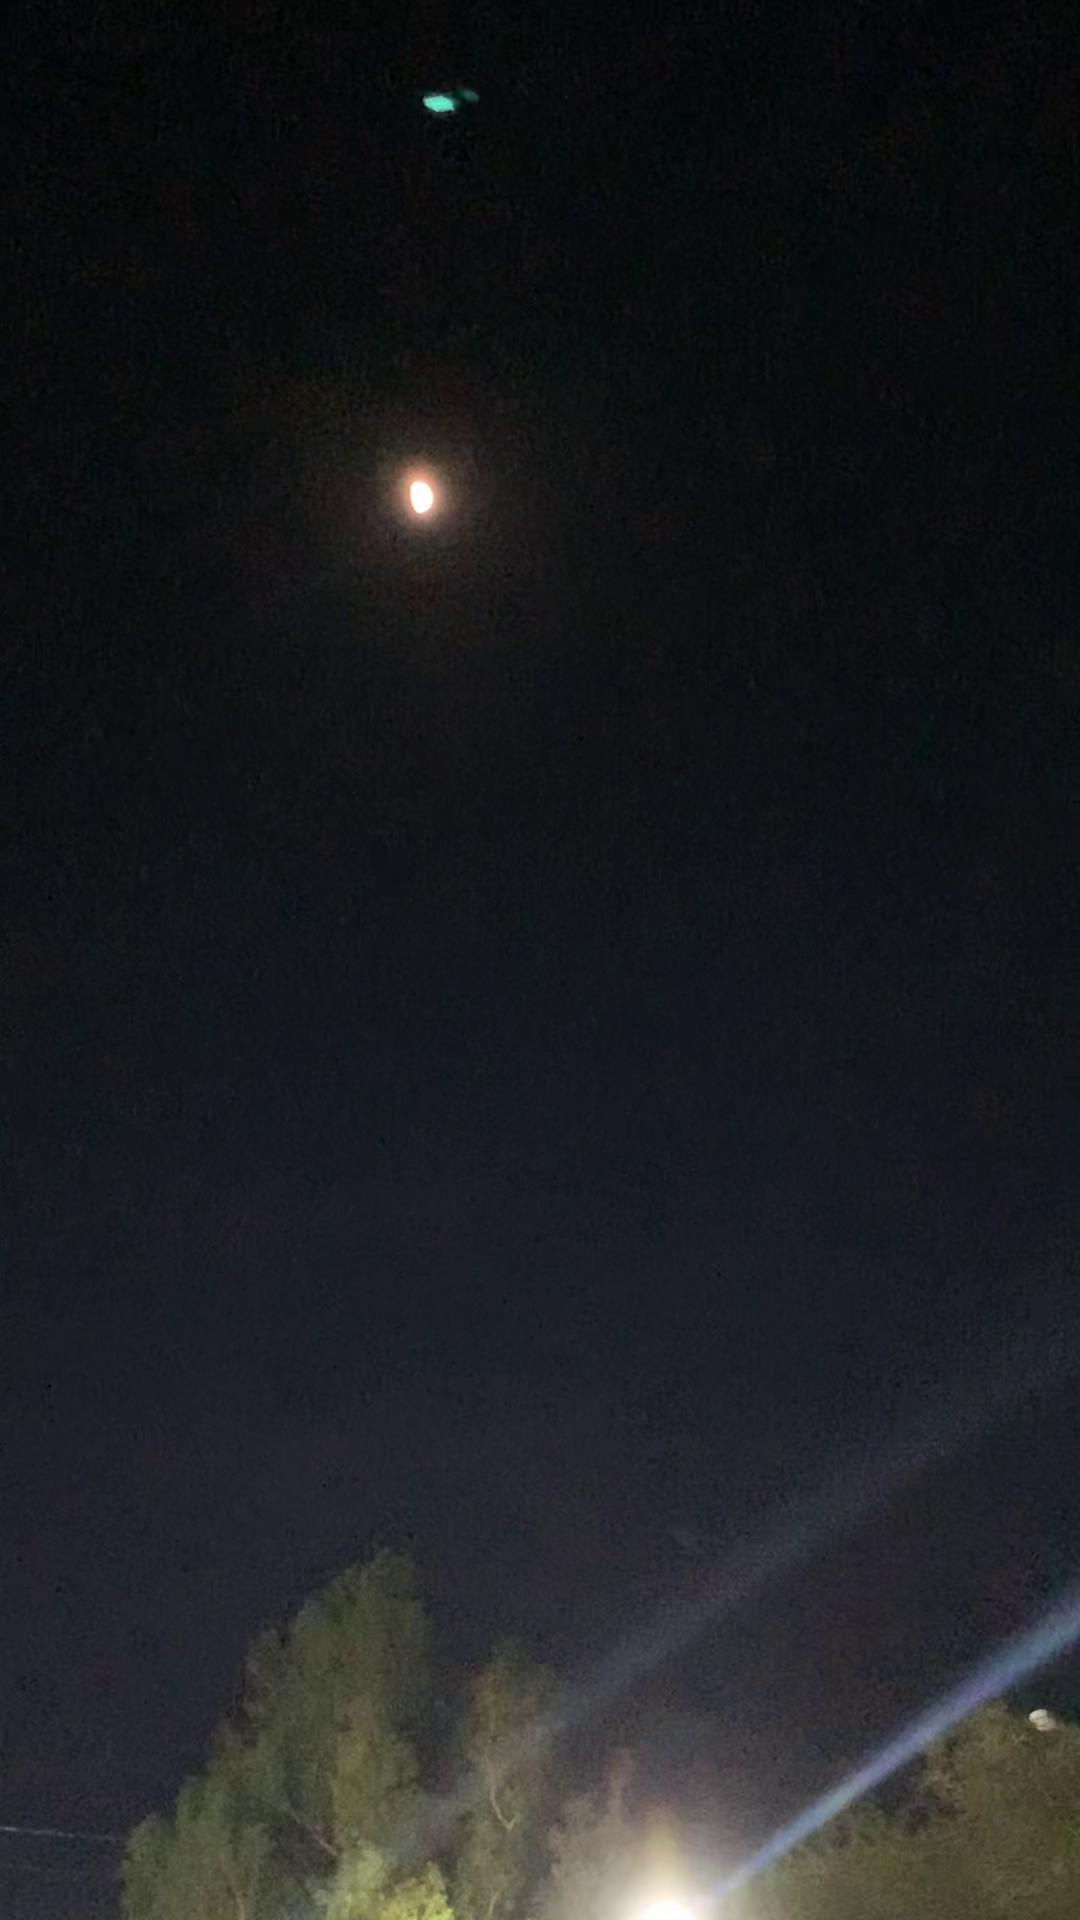moon: (388, 463, 464, 542)
